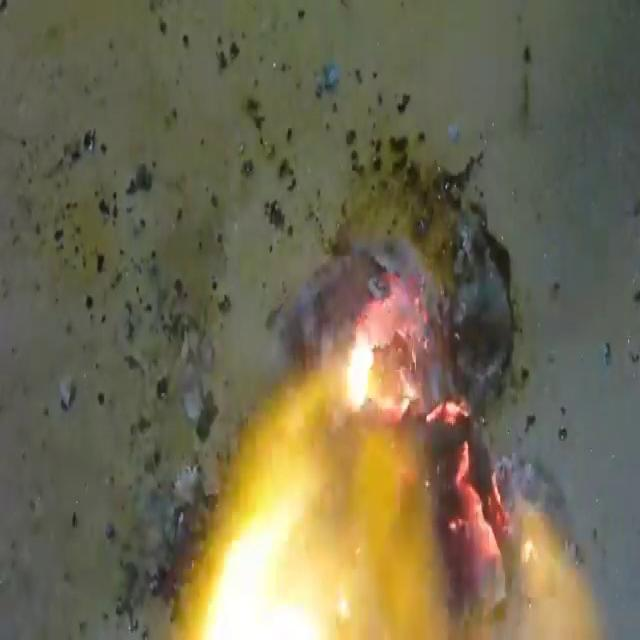Fire: (158, 184, 606, 640)
